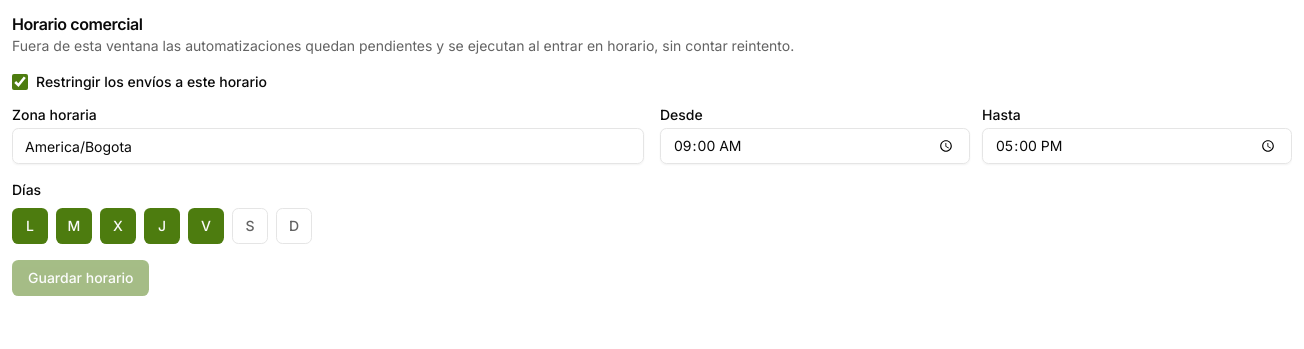
Test case: HorariosSection › convierte la hora a minutos desde medianoche al guardar
This screenshot has width=1304, height=349.
Expected: the time field labelled "Hasta" holds "17:00", [982,128,1292,164]
Replace the text in the time field labelled "Desde" with "08:00": (815, 146) [660,128,970,164]
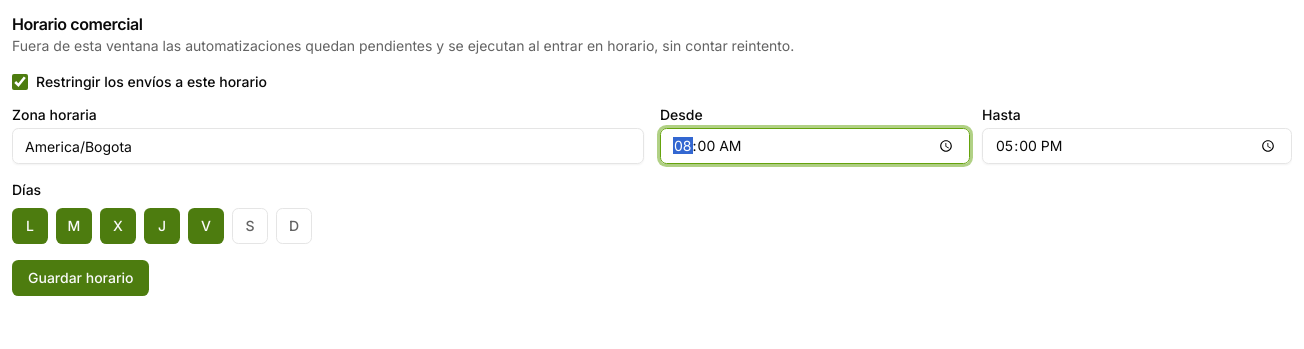
Click the button "Guardar horario": (81, 278) [12,260,149,296]
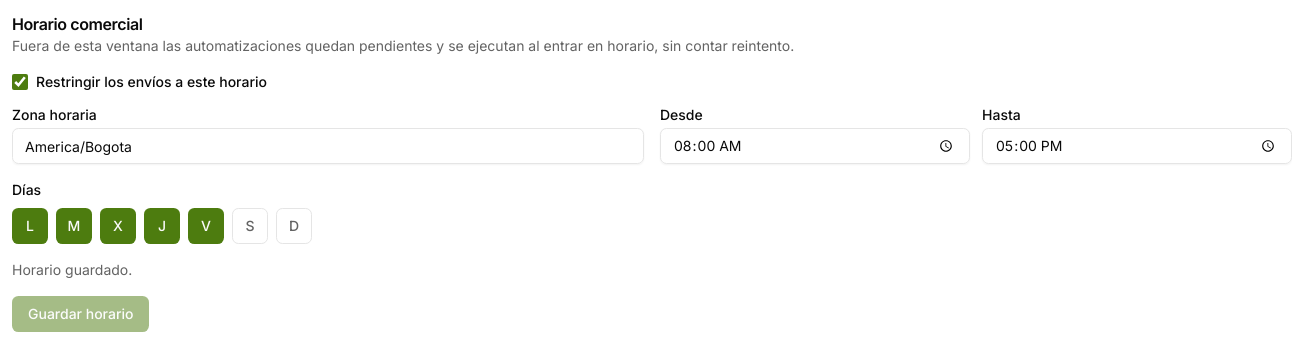
Expected: the text "Horario guardado." is shown, [12,261,132,278]
